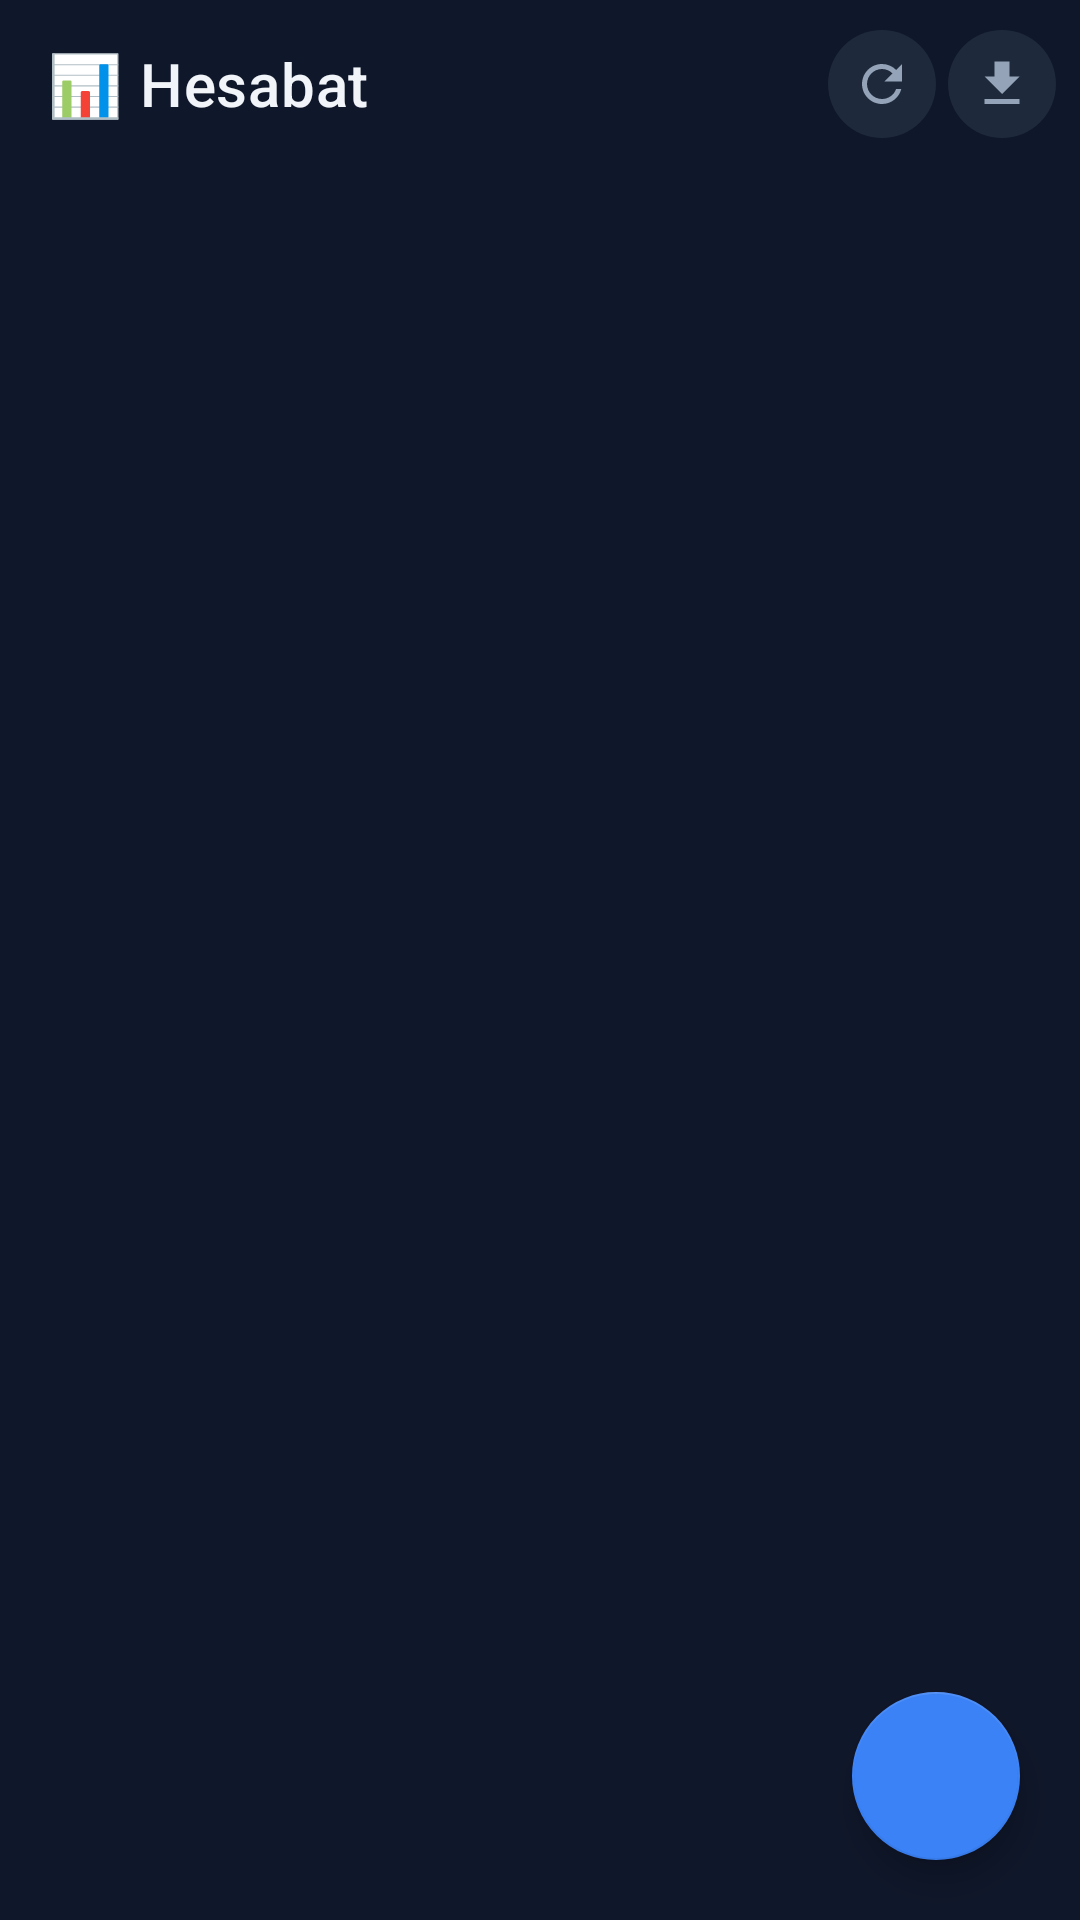

Screen size 1080px×1920px. Icon name, then its center in pixels as [x,y]:
Export: [1002,84]
Yenilə: [882,84]
